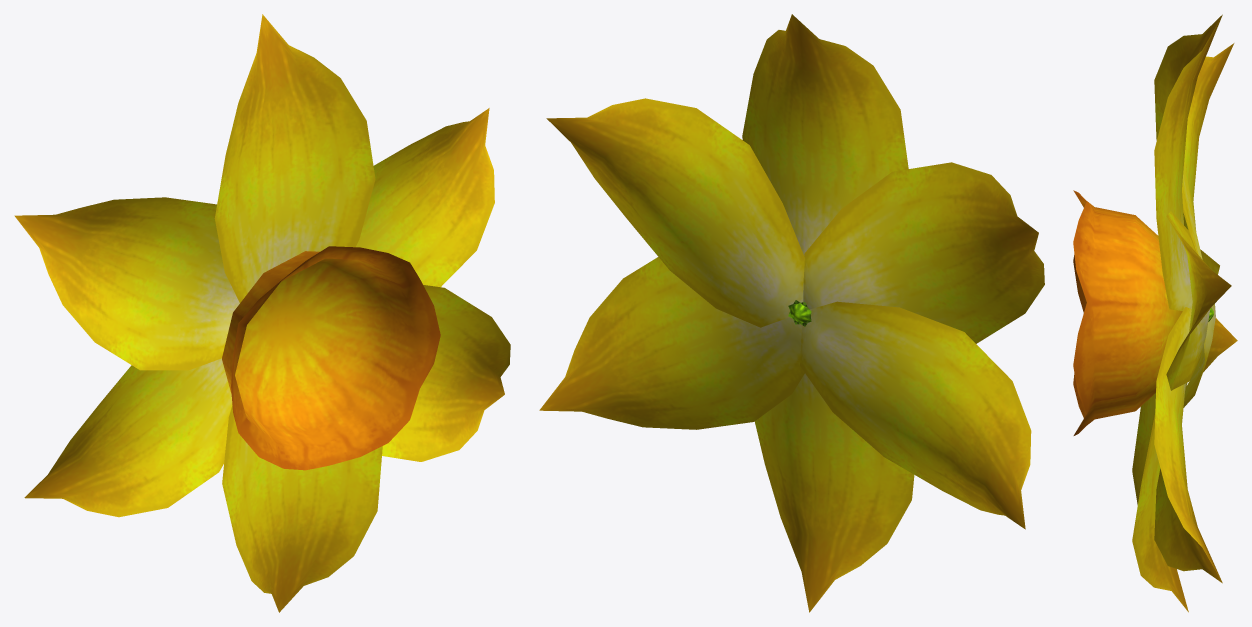
Rendered from daffodil.fbx.
The picture shows the model from 3 angles, left to right: view 1: azimuth 30°, elevation 25°; view 2: azimuth 150°, elevation 25°; view 3: azimuth 270°, elevation 25°; orthographic projection. The views are drawn at different scales.
Visible parts, largest first — view 1: daffodil.petal.004, daffodil.bell, daffodil.petal; view 2: daffodil.petal.004, daffodil.petal; view 3: daffodil.petal.004, daffodil.bell, daffodil.petal.
Part boxes in pixels (<box>): daffodil.petal.004: <box>14,108,510,612</box>; daffodil.bell: <box>222,246,440,470</box>; daffodil.petal: <box>214,14,375,302</box>; daffodil.petal.004: <box>539,98,1044,612</box>; daffodil.petal: <box>742,14,908,302</box>; daffodil.petal.004: <box>1132,43,1237,612</box>; daffodil.bell: <box>1073,190,1182,435</box>; daffodil.petal: <box>1154,14,1222,311</box>.
Bounding box in the file's own units: 196 × 226 × 56.34.
